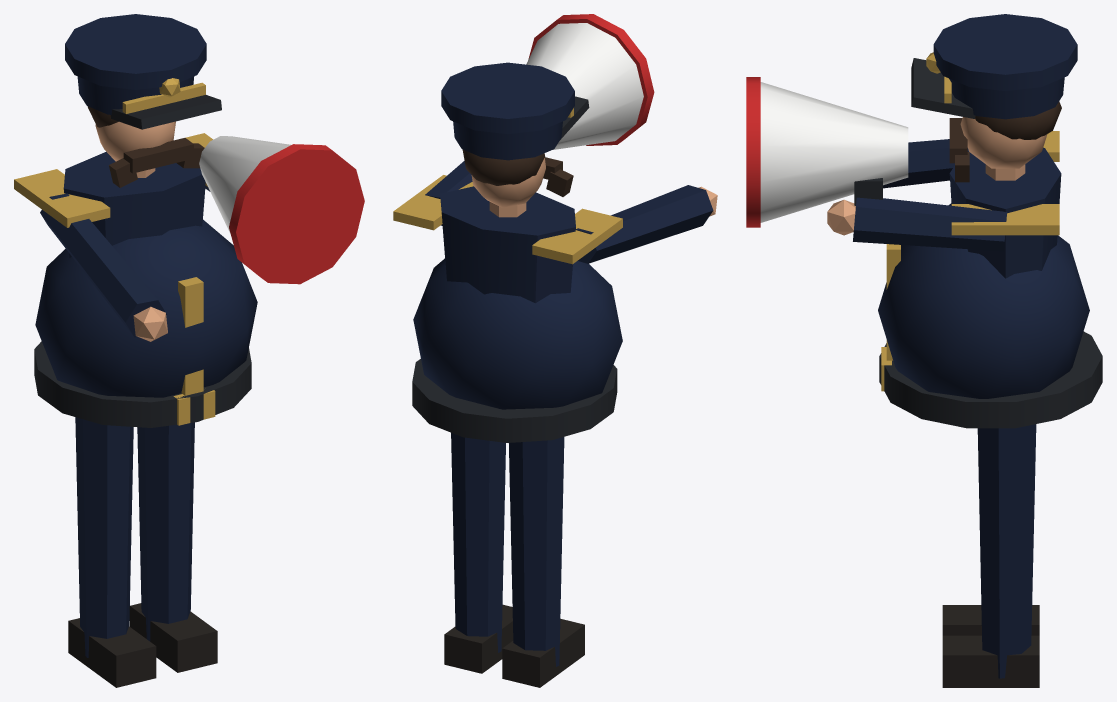
Rendered from comisario.fbx.
3 views of the same model, side by side, from view 1: azimuth 30°, elevation 25°; view 2: azimuth 150°, elevation 25°; view 3: azimuth 270°, elevation 25° (orthographic). The views are drawn at different scales.
Visible parts, largest first — view 1: comisario; view 2: comisario; view 3: comisario.
Boxes of the visible parts, left/top/right/bottom form: comisario: left=14, top=14, right=364, bottom=687; comisario: left=393, top=14, right=717, bottom=687; comisario: left=746, top=14, right=1102, bottom=687.
Size of the model in its own units: 0.7018 by 1.89 by 0.99.
